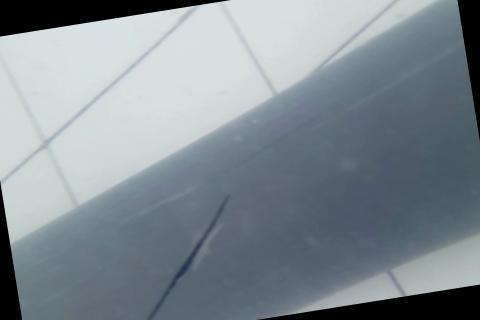keretakan: (109, 190, 253, 320)
